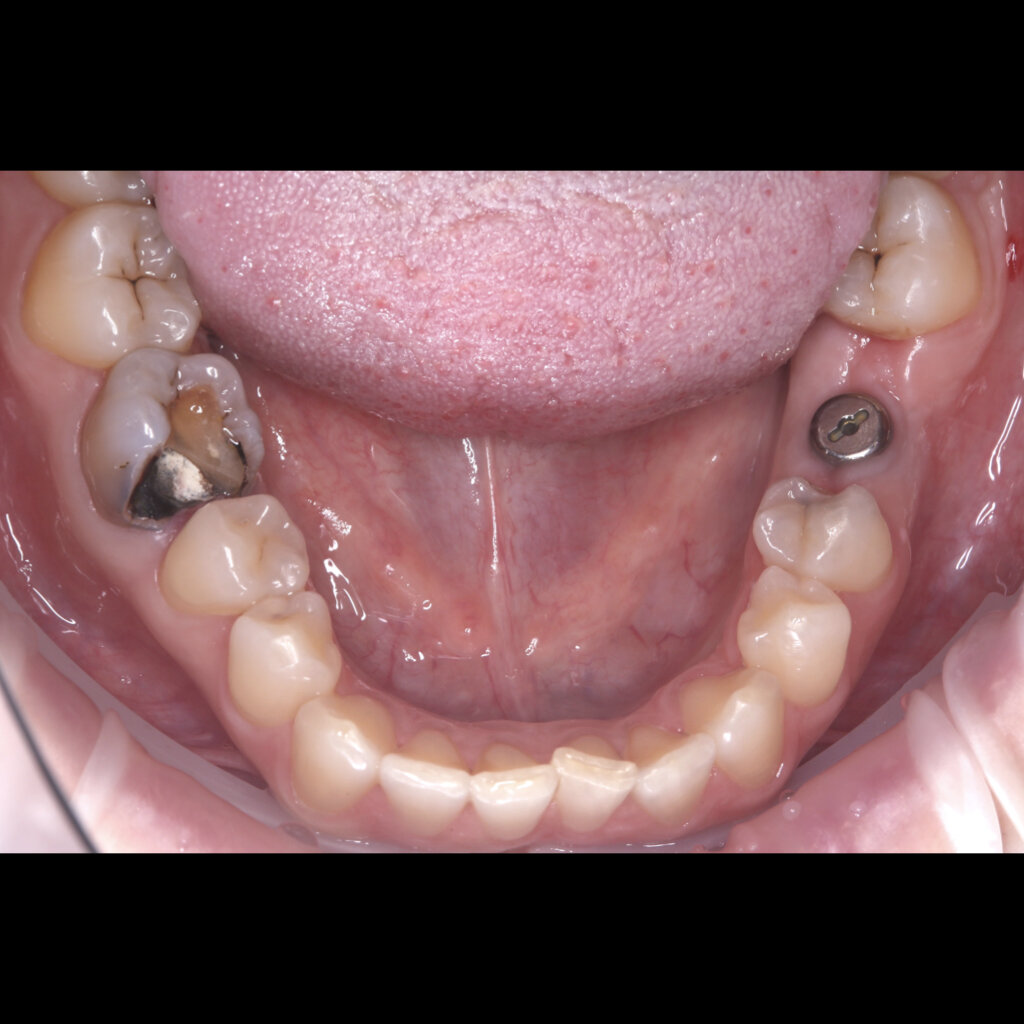LL1BC_healthy: (740, 571, 853, 692)
LL2BC_healthy: (757, 474, 894, 585)
LL2M_decay: (825, 191, 981, 340)
LLCI_healthy: (553, 734, 636, 828)
LLC_healthy: (691, 682, 786, 782)
LLLI_healthy: (632, 725, 713, 816)
LR1BC_healthy: (234, 596, 343, 713)
LR1M_healthy: (81, 348, 266, 511)
LR2BC_healthy: (167, 498, 312, 604)
LR2M_healthy: (45, 202, 204, 351)
LRCI_healthy: (472, 744, 557, 837)
LRC_healthy: (296, 697, 386, 798)
LRLI_healthy: (380, 728, 472, 833)
